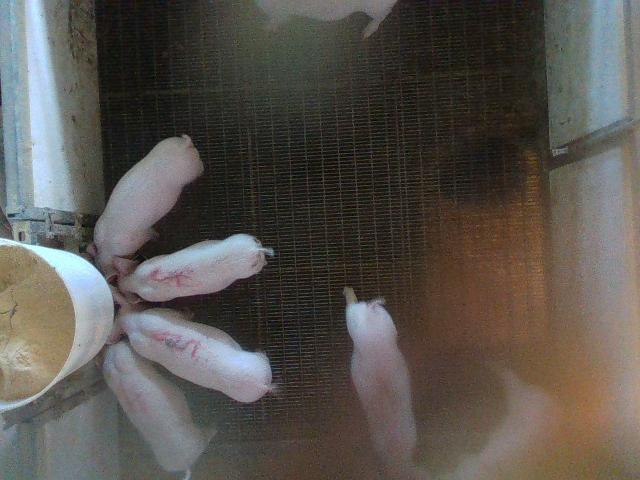pig-1: (346, 289, 426, 478)
pig-3: (108, 288, 271, 402)
pig-4: (102, 341, 215, 478)
pig-5: (119, 234, 274, 301)
